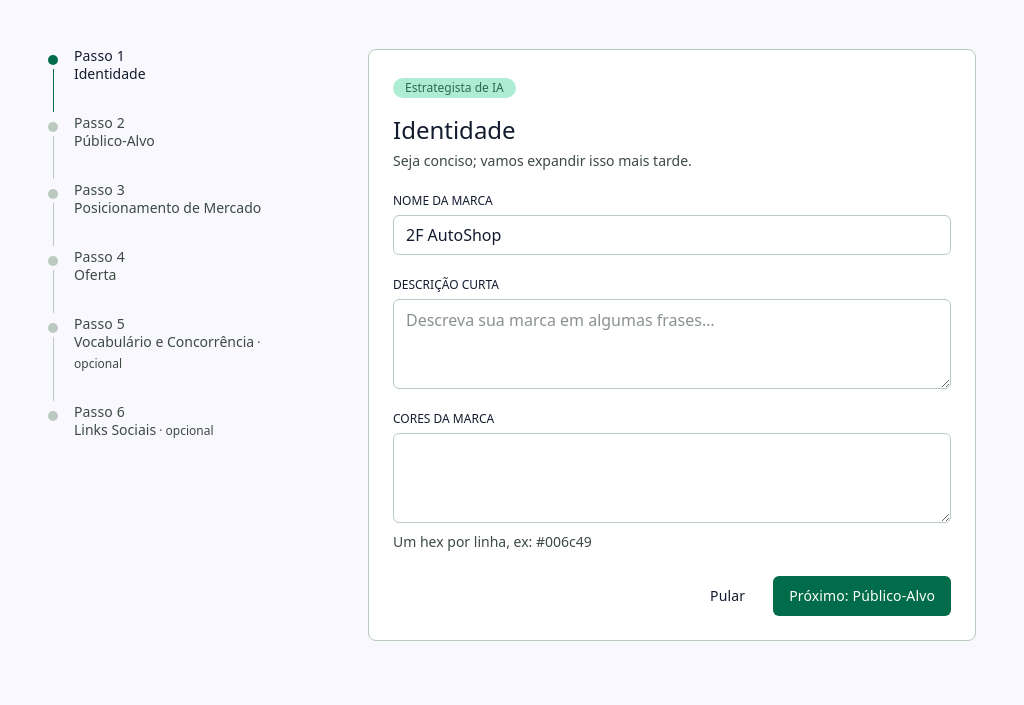
Test: Pular sem alteração avança direto
(page scrolled)
Click the button "Pular" at (728, 596), box [694,576,761,616]
(page scrolled)
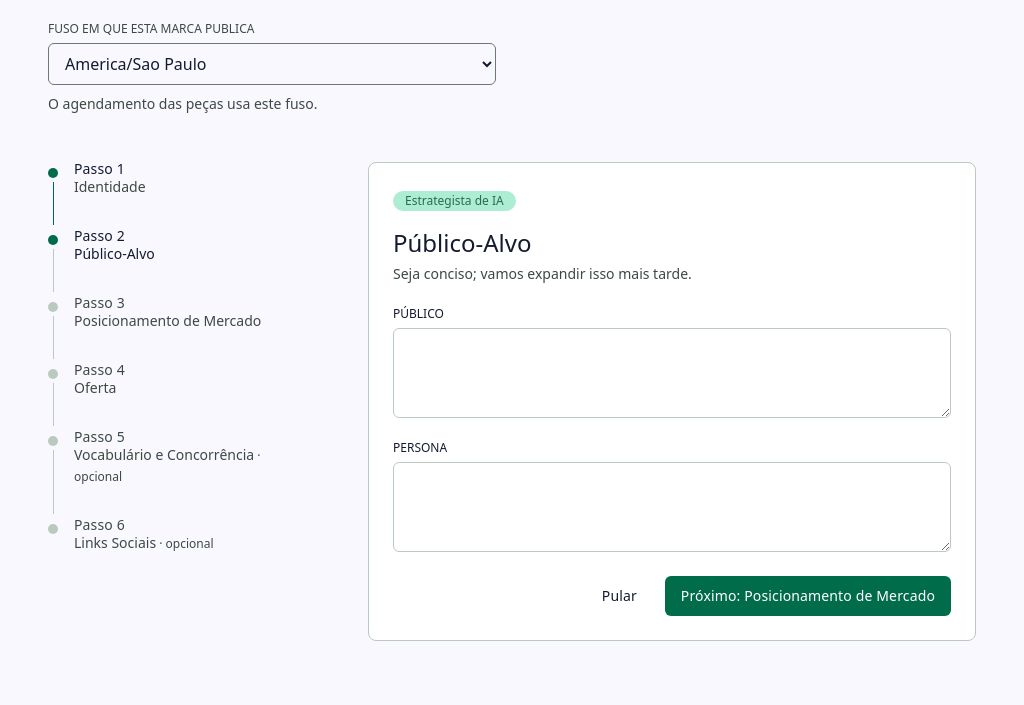
Expected: the text box labelled "Público" is shown, [393,328,951,418]
